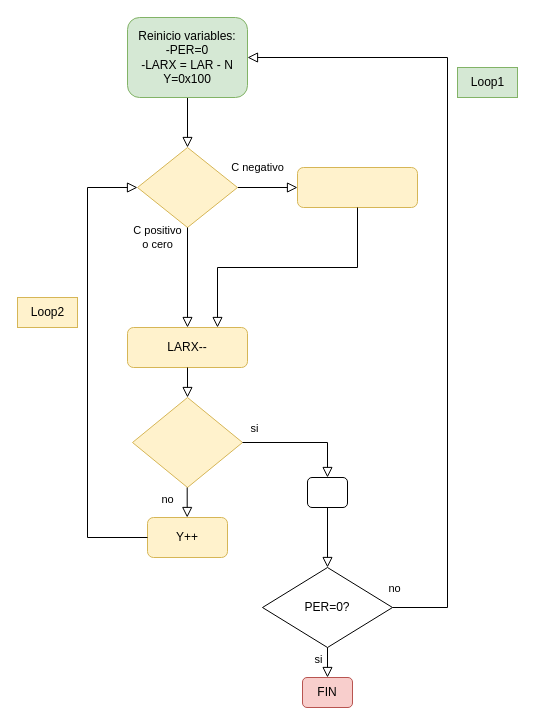
The diagram is 535 pixels wide and 725 high, and some of its shapes have lost their labels. The centre of each missing label's shape, as x and y in pixels:
(Y) - (Y+1) = C: (187,187)
-Permuto (Y) y (Y+1) -PER++: (357,187)
LARX = 0?: (187,442)
N++: (327,492)
